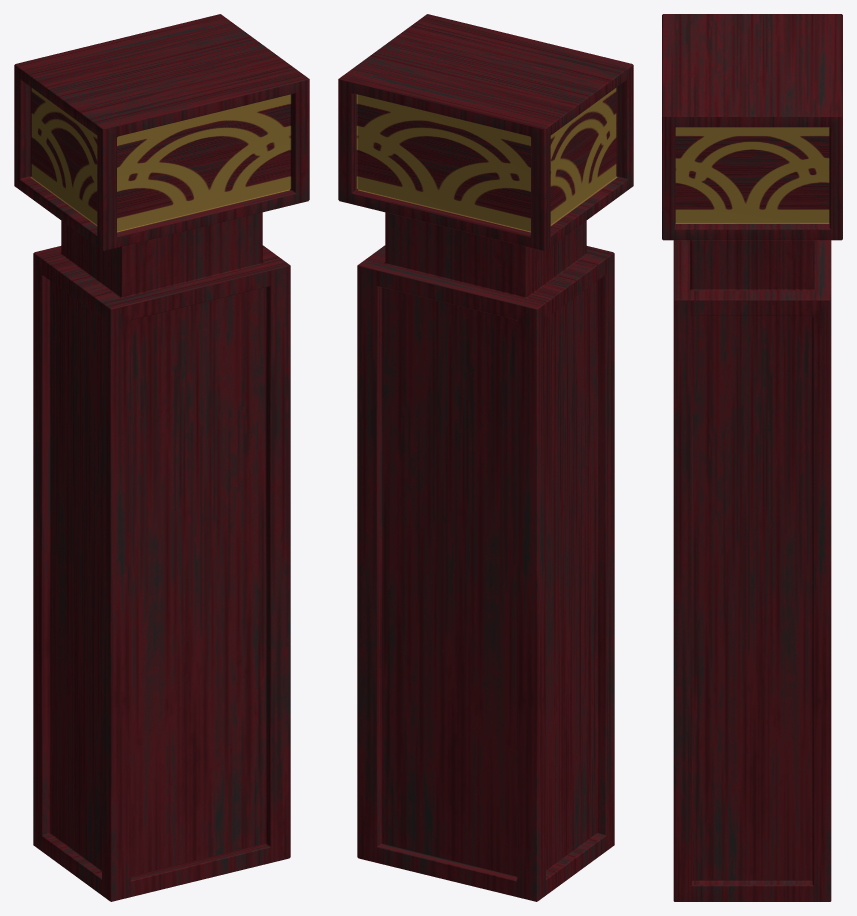
Rendered from SM_Fence_end.fbx.
The picture shows the model from 3 angles, left to right: view 1: azimuth 30°, elevation 25°; view 2: azimuth 150°, elevation 25°; view 3: azimuth 270°, elevation 25°; orthographic projection.
Visible parts, largest first — view 1: SM_Fence_end; view 2: SM_Fence_end; view 3: SM_Fence_end.
Boxes of the visible parts, box(x1,y1,x2,y2) form: SM_Fence_end: box(14, 14, 309, 901); SM_Fence_end: box(338, 14, 633, 901); SM_Fence_end: box(662, 14, 842, 901).
Size of the model in its own units: 35 by 26.06 by 126.
Materials: 1 (1 with a texture image).
